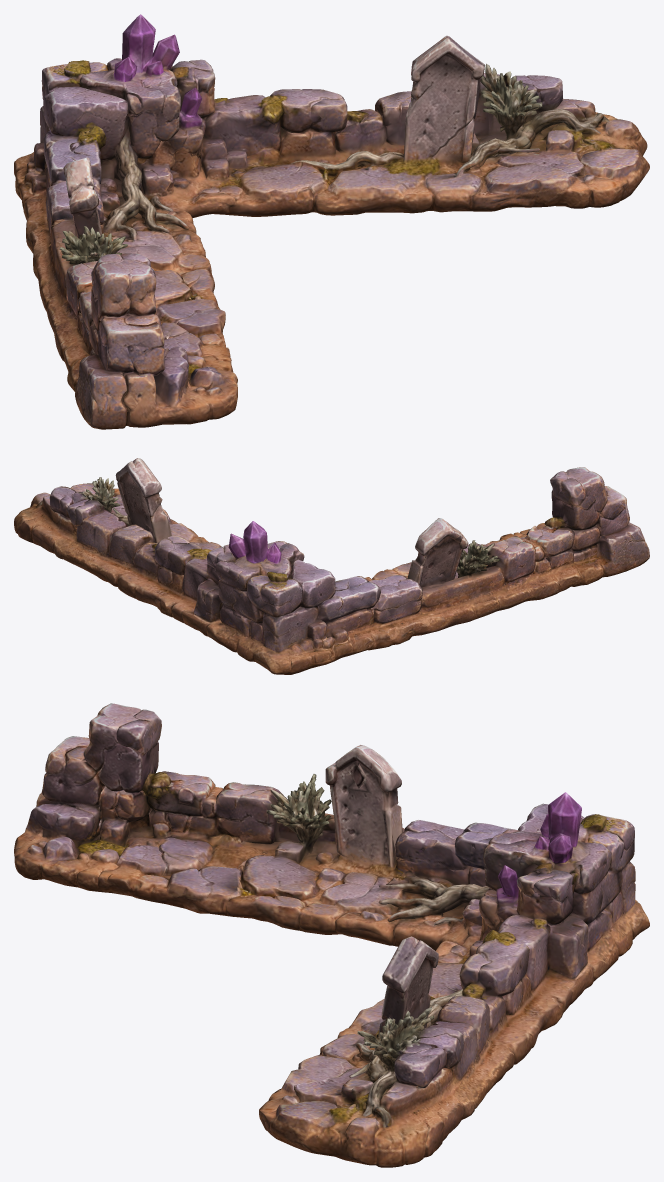
File: graveyard-corner.glb
3 renders of one model, top to bottom at view 1: azimuth 30°, elevation 25°; view 2: azimuth 150°, elevation 25°; view 3: azimuth 270°, elevation 25°, orthographic. The views are drawn at different scales.
Parts seen in each view (by area): view 1: tripo_node_9d3af45b-785a-46d9-b901-73e875083141; view 2: tripo_node_9d3af45b-785a-46d9-b901-73e875083141; view 3: tripo_node_9d3af45b-785a-46d9-b901-73e875083141.
Part boxes in pixels (left/top/right/bottom): tripo_node_9d3af45b-785a-46d9-b901-73e875083141: left=14, top=14, right=649, bottom=429; tripo_node_9d3af45b-785a-46d9-b901-73e875083141: left=14, top=458, right=649, bottom=674; tripo_node_9d3af45b-785a-46d9-b901-73e875083141: left=14, top=703, right=649, bottom=1167.
Size of the model in its own units: 0.9794 by 0.2225 by 0.742.
1 material, 1 textured.
